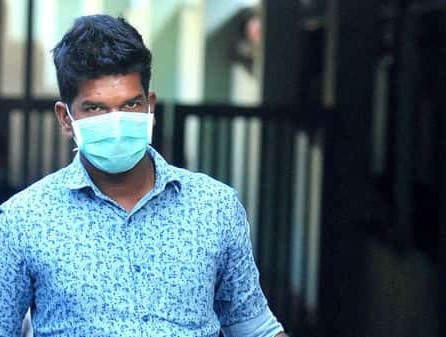with_mask: (45, 20, 173, 182)
